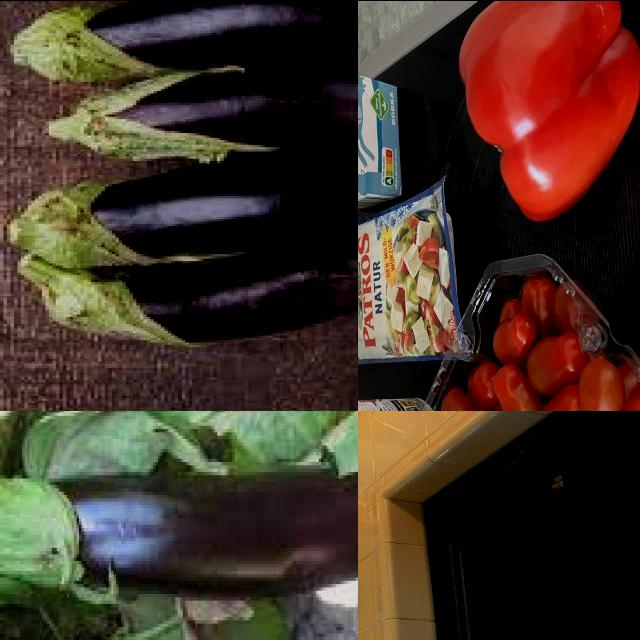bell_pepper: (451, 1, 640, 223)
eggplant: (1, 476, 359, 601), (8, 150, 359, 266), (32, 245, 359, 348), (11, 1, 359, 80), (46, 73, 359, 159)
tomato: (437, 266, 640, 411)
